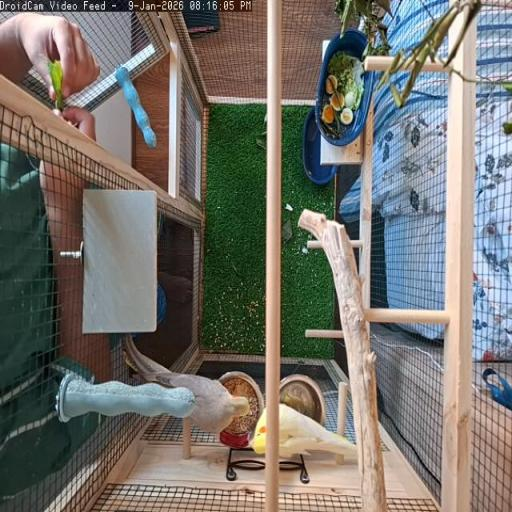bebedero: (280, 374, 325, 425)
comedero: (219, 372, 262, 433), (220, 430, 249, 448)
ninfa: (126, 338, 248, 433), (278, 404, 356, 457), (252, 409, 267, 452)
